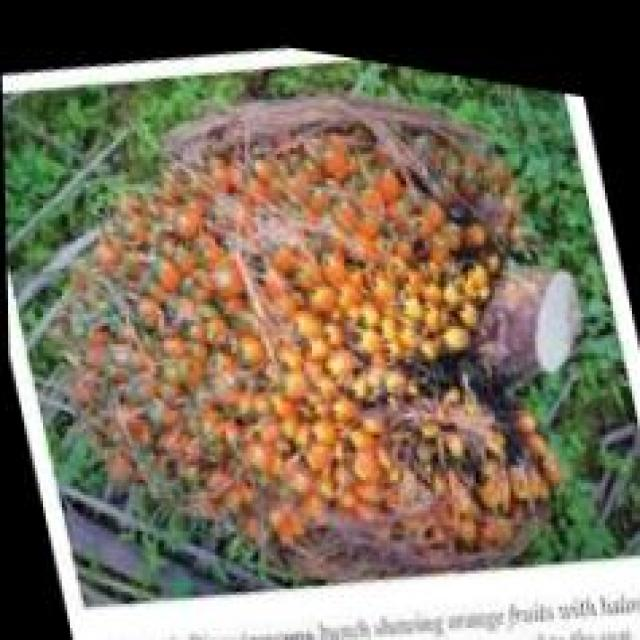Ripefruit: (32, 35, 581, 632)
